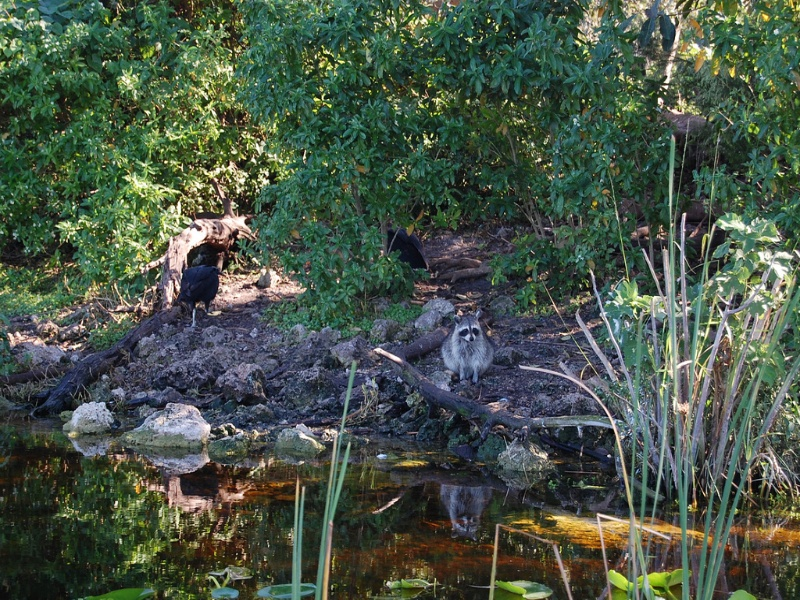raccoon: (437, 309, 500, 384)
